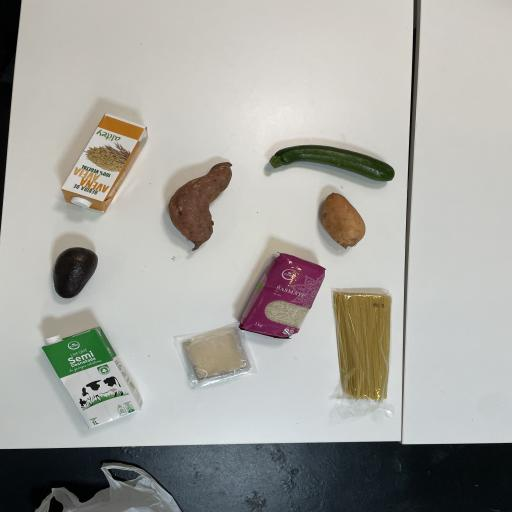avocado: (25, 228, 122, 312)
courgette: (258, 128, 408, 195)
cured_goat_cheese: (156, 320, 276, 396)
milk: (15, 306, 158, 432)
oat_milk: (46, 85, 154, 222)
rice: (224, 243, 333, 360)
spaghetti: (303, 277, 415, 420)
sweet_potato: (148, 138, 246, 268), (294, 176, 388, 258)
